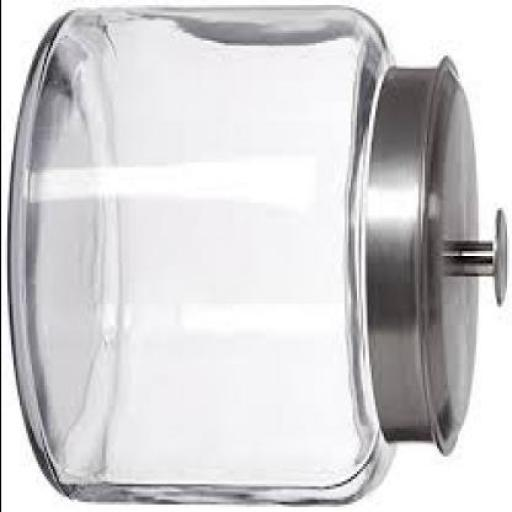glass: (12, 5, 396, 502)
metal: (366, 53, 508, 454)
